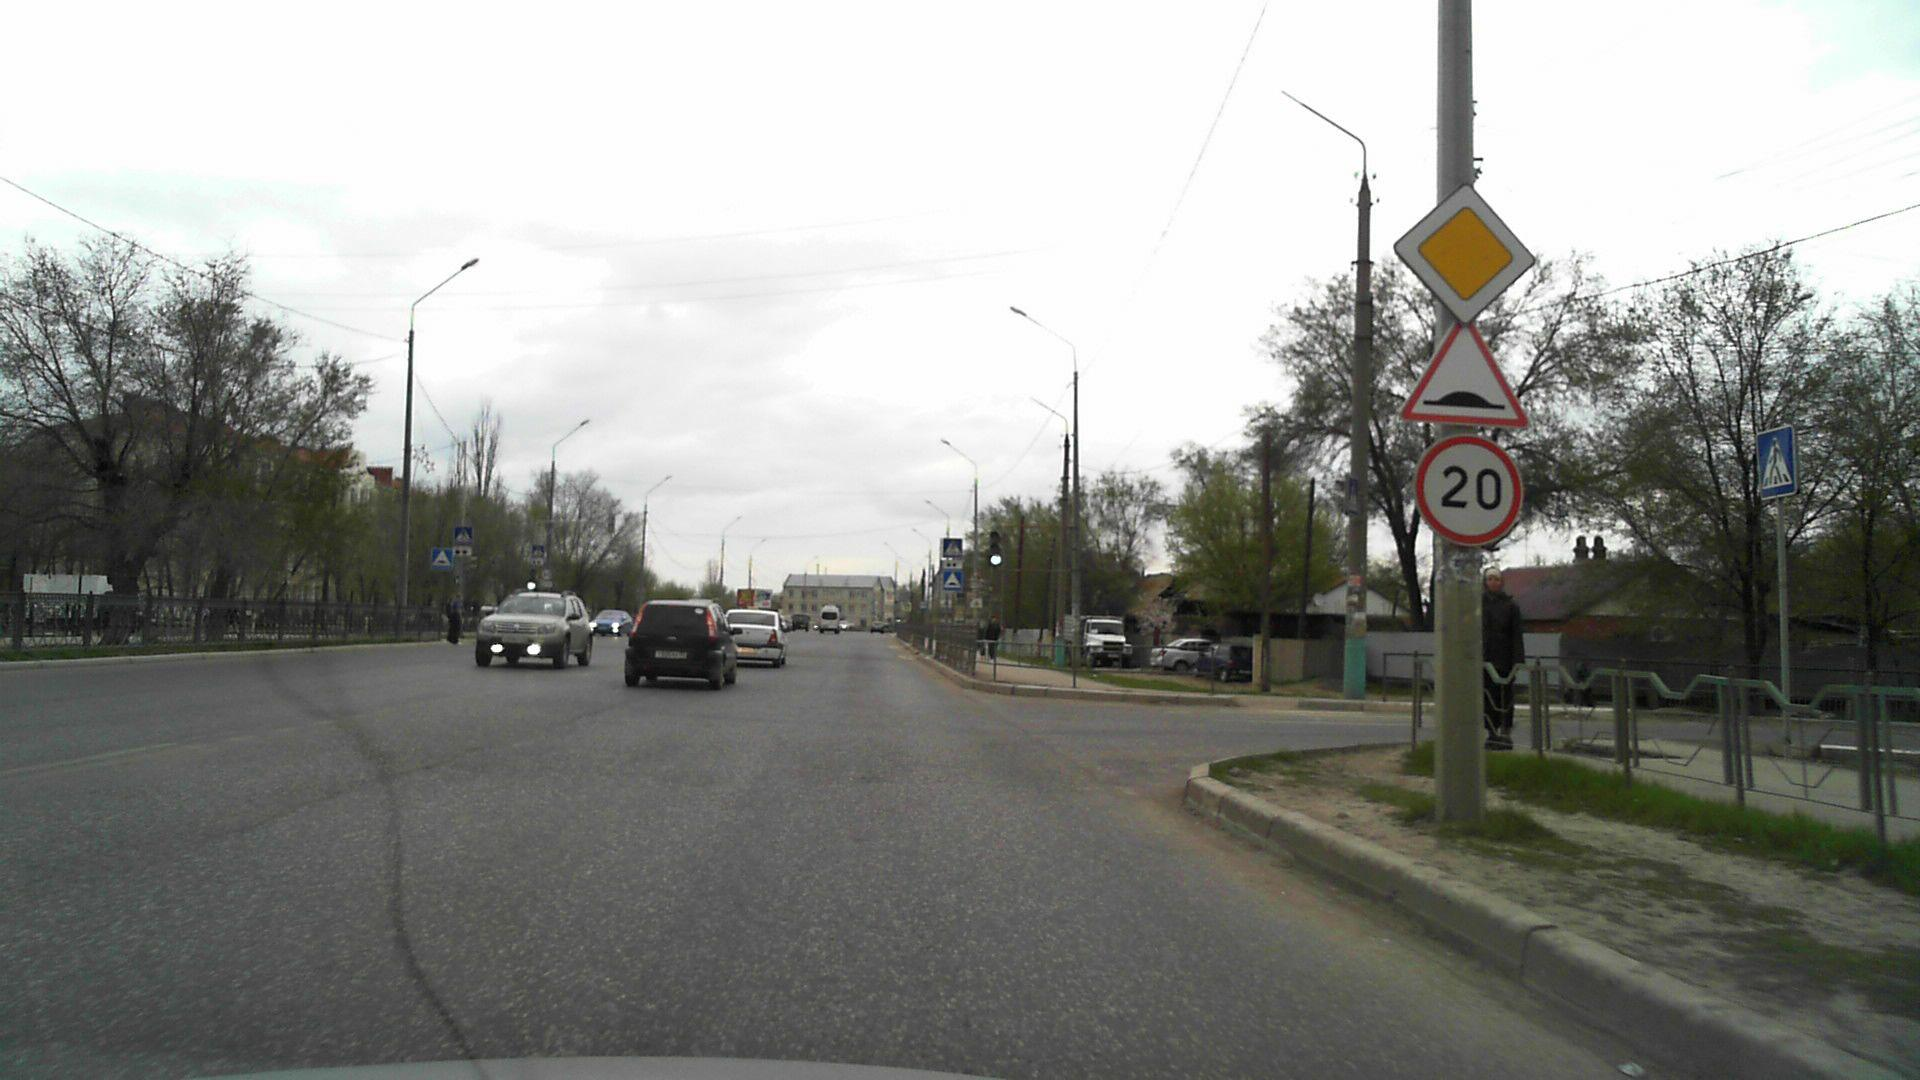1_17: (1402, 318, 1538, 431)
2_1: (1389, 189, 1534, 314)
3_24: (1414, 436, 1524, 545)
5_19_1: (1746, 426, 1804, 496), (940, 537, 964, 559)
5_19_2: (456, 525, 476, 542), (531, 543, 546, 556)
5_20: (431, 549, 452, 570), (943, 571, 961, 591)
8_15: (943, 559, 965, 571), (454, 546, 471, 556), (530, 556, 543, 566)
